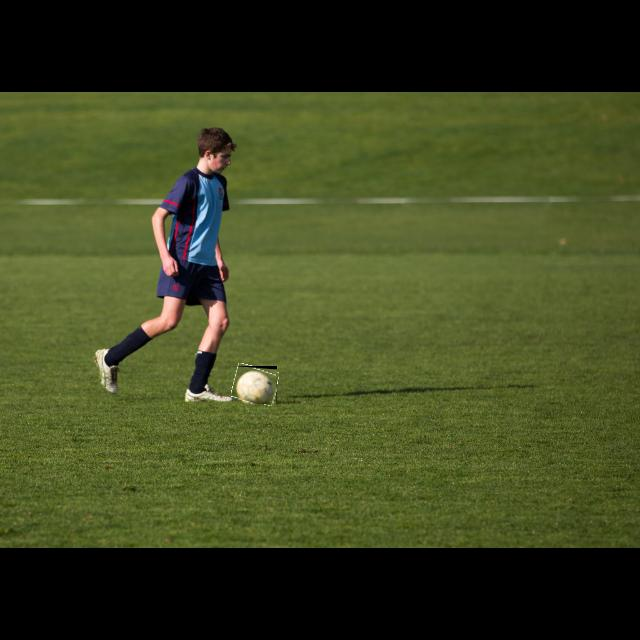Football: (233, 366, 277, 404)
